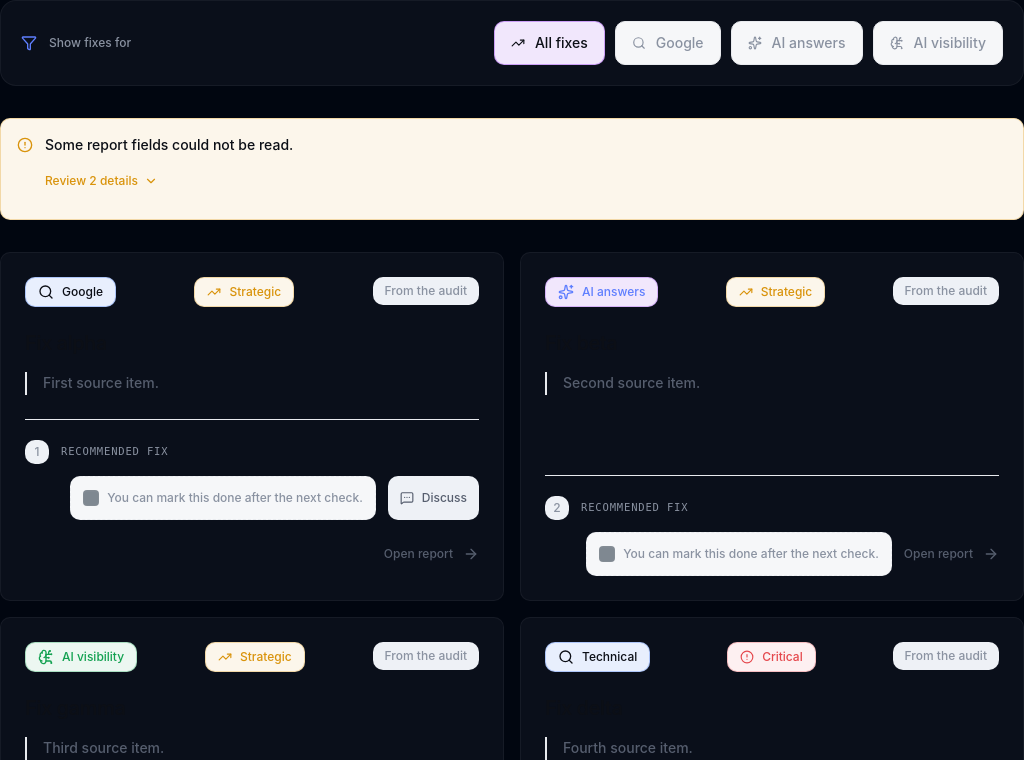
Test: RecommendationsHubClient › exposes diagnostics expansion state
Click the button "Review 2 details": (101, 181) [45, 159, 158, 203]
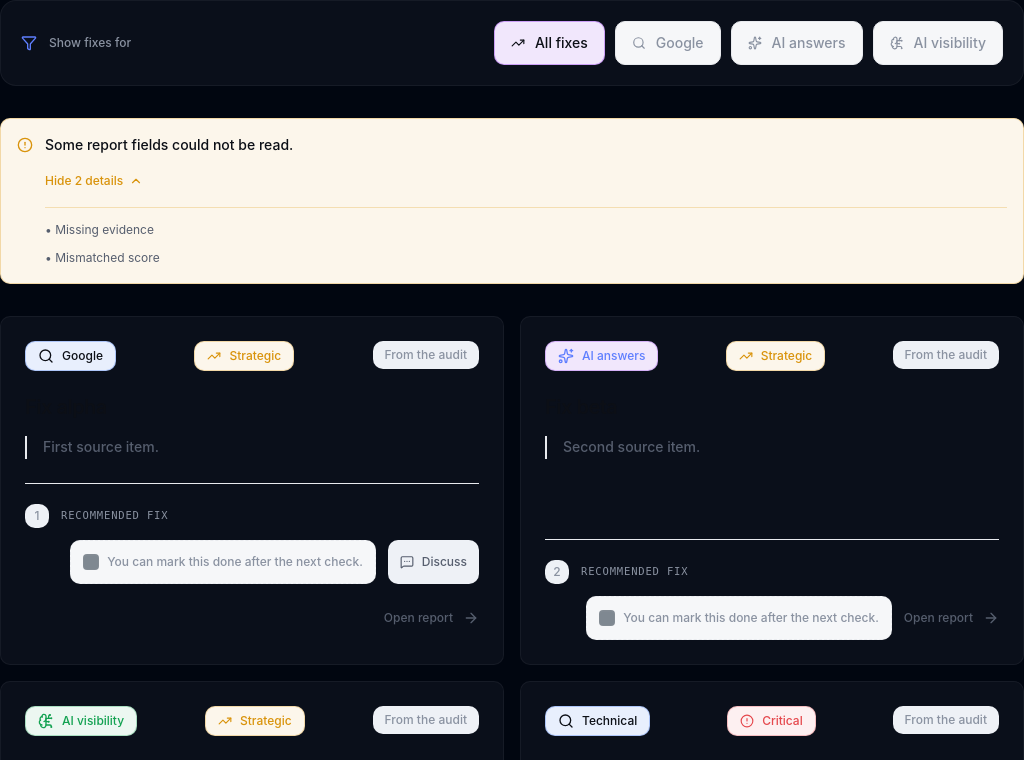
Expected: the button named "review 2 details" is expanded, [45, 159, 143, 203]
Expected: the list item "• Missing evidence" is shown, [45, 222, 154, 237]
